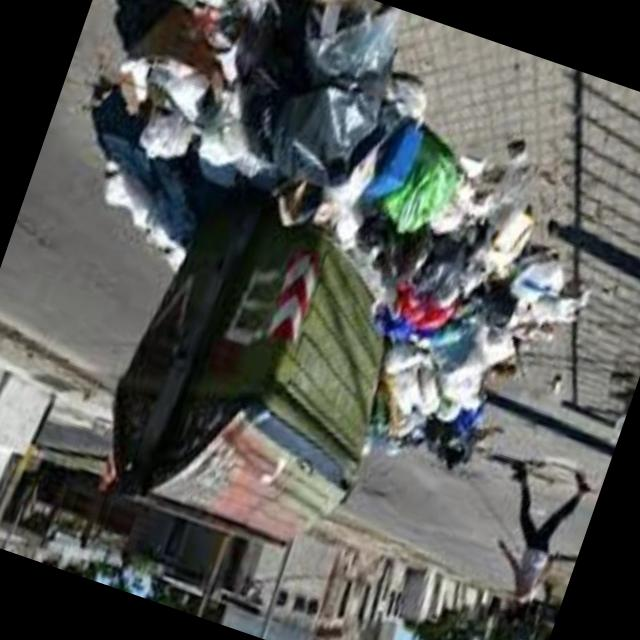high trash: (92, 0, 584, 462)
